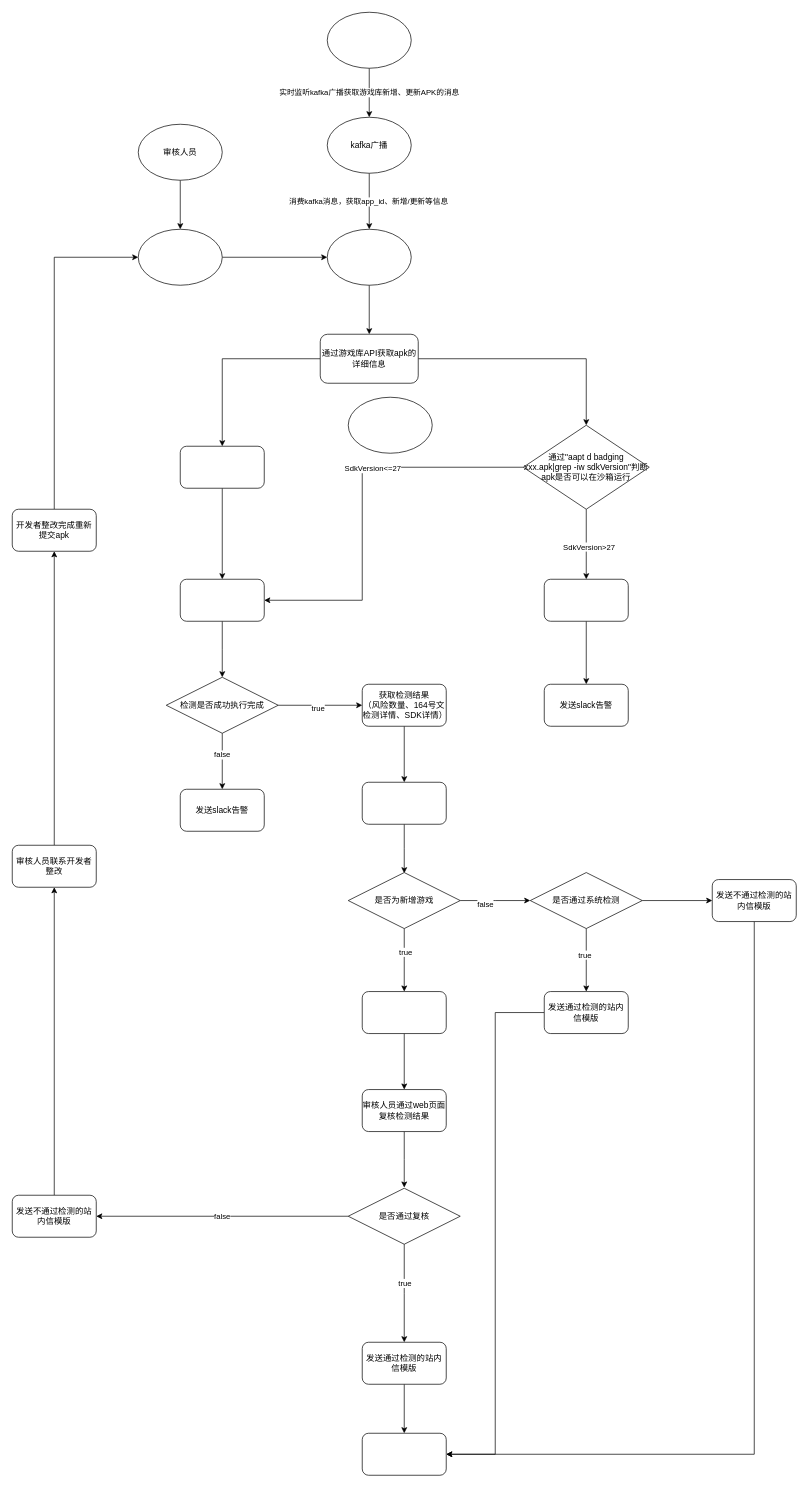
Some shapes in this 809 by 1488 pixel diagram are drawn without their labels. Each missing label, with the box of its shape:
DC审核后台: (138, 229, 222, 285)
下载检测报告，上传oss: (362, 782, 446, 824)
发送Slack通知给审核人员处理: (362, 991, 446, 1034)
将检测状态记录到数据库表中: (362, 1433, 446, 1475)
游戏库: (327, 229, 411, 285)
通过api接口终止检测， 记录原因， 节约检测资源: (544, 579, 628, 621)
通过回调接口获取检测状态: (180, 579, 264, 621)
通过爱加密异步检测接口发起检测任务: (180, 446, 264, 488)
隐私检测程序: (327, 12, 411, 68)
